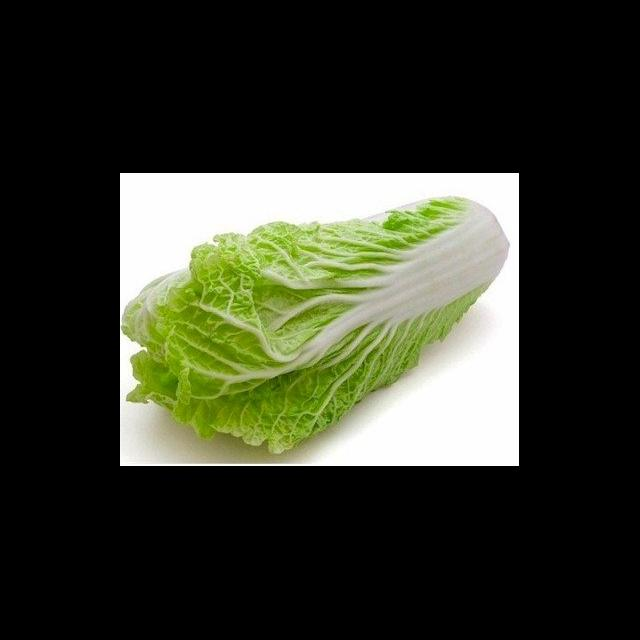cabbage: (120, 188, 512, 448)
